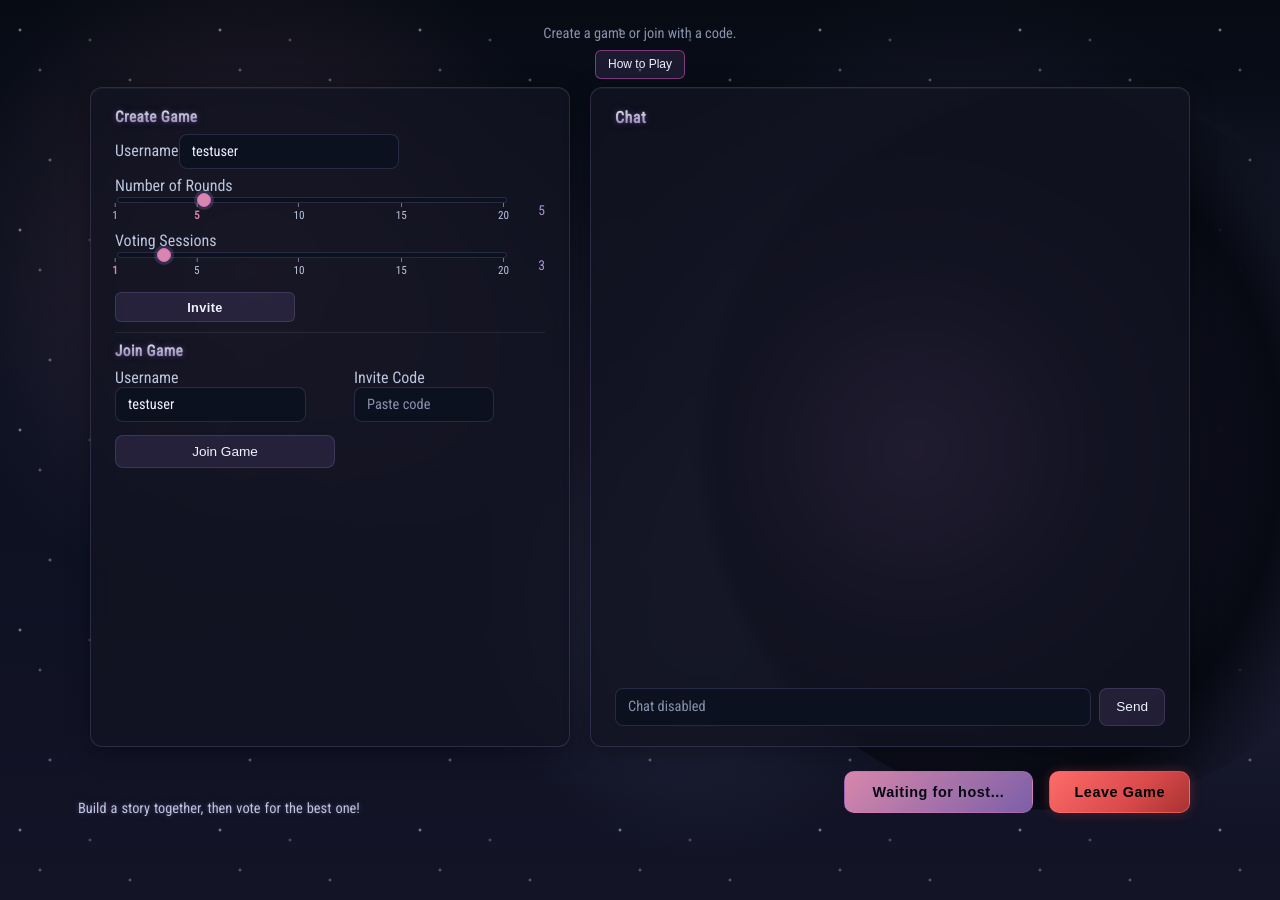
Test: Frontend page components › Lobby page renders create/join sections and shows how-to modal
Check: the heading "Create Game" is shown, box [115,108,545,126]
Check: the heading "Join Game" is shown, box [115,342,545,360]
Click the button "How to Play" at (640, 64), box [595,50,685,79]
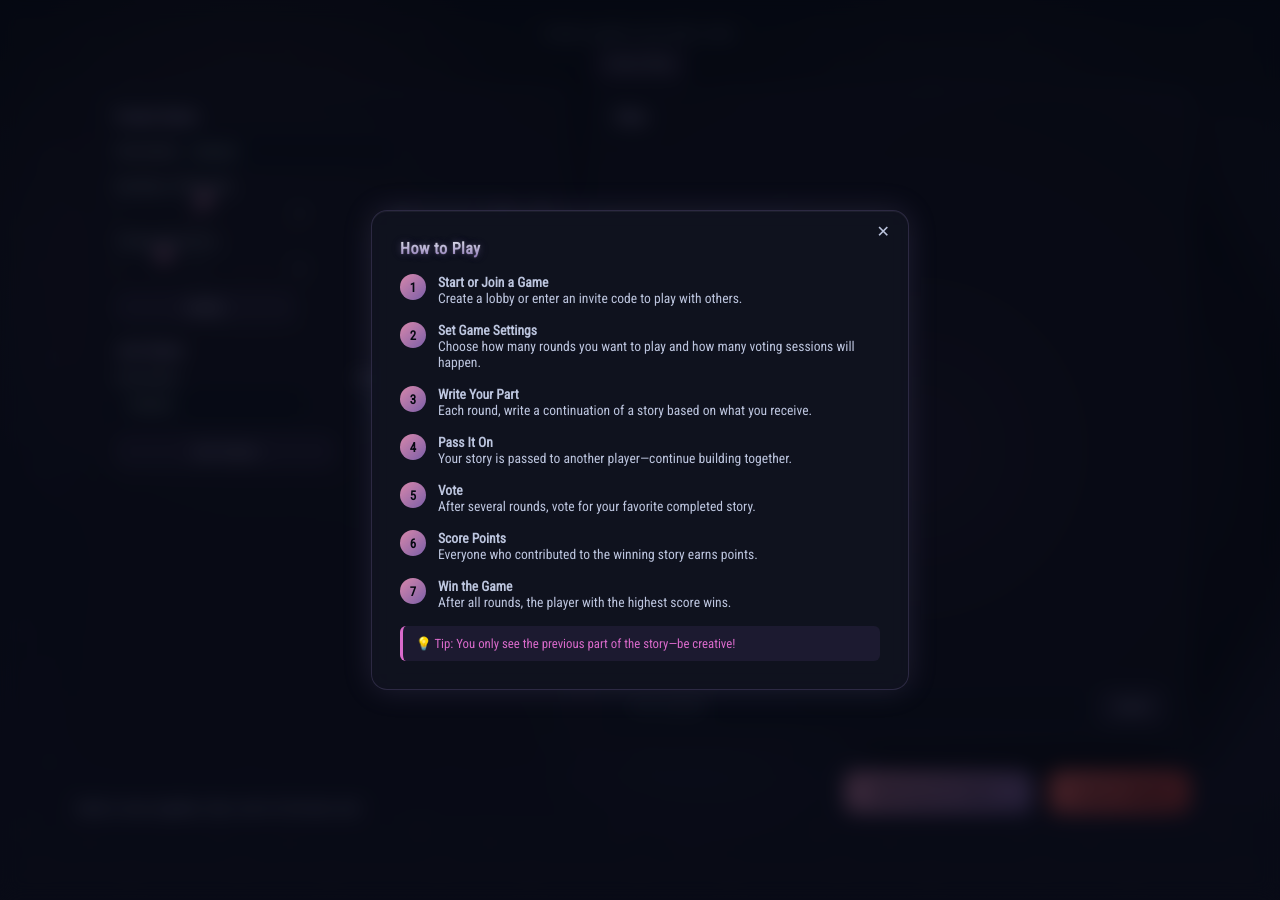
Check: the heading "How to Play" is shown, box [400,239,880,258]
